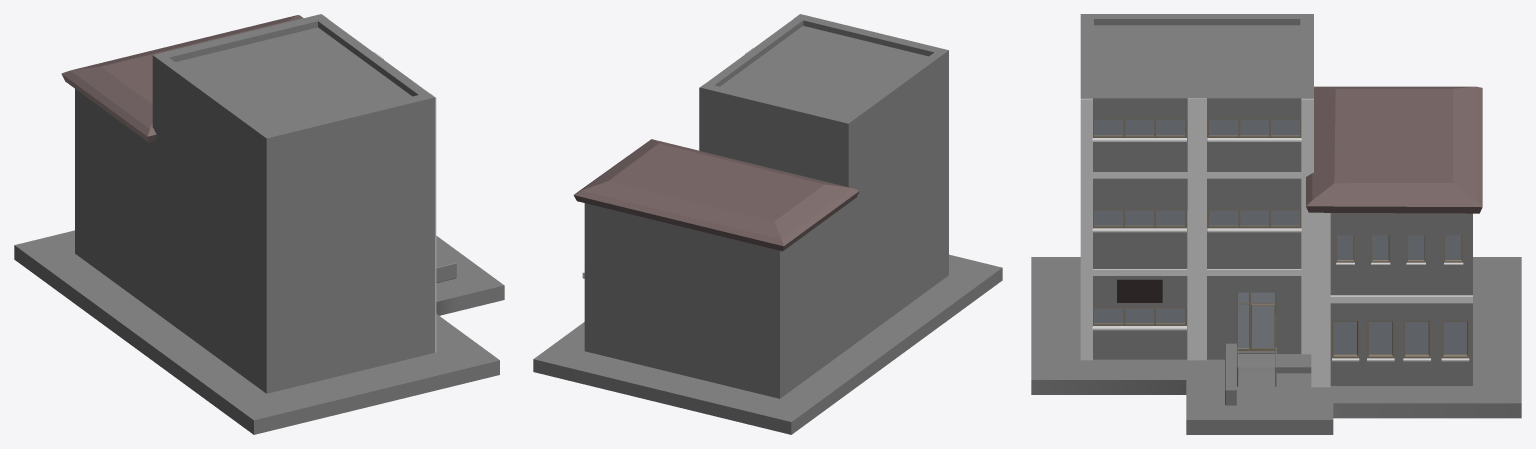
File: mesh_AmchaBuilding.fbx
3 views of the same model, side by side, from view 1: azimuth 30°, elevation 25°; view 2: azimuth 150°, elevation 25°; view 3: azimuth 270°, elevation 25° (orthographic). The views are drawn at different scales.
Parts seen in each view (by area): view 1: StartPos; view 2: StartPos; view 3: StartPos.
Part boxes in pixels (box(x1,y1,x2,y2)): StartPos: box(14, 14, 504, 434); StartPos: box(533, 14, 1002, 434); StartPos: box(1031, 14, 1521, 434).
Bounding box in the file's own units: 952 × 752 × 1210.
